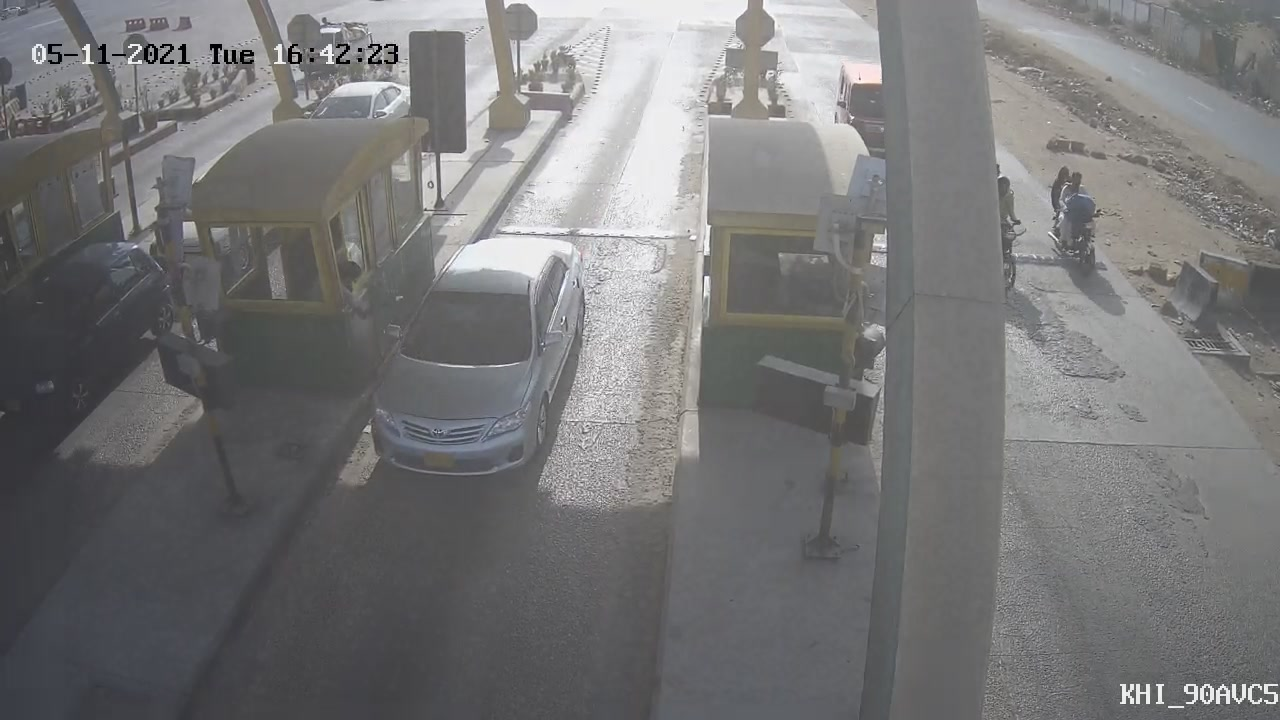F1: (351, 218, 604, 499)
